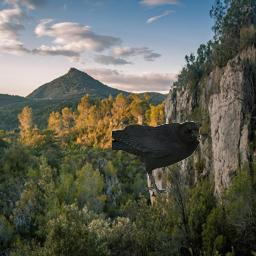Crow: (112, 121, 201, 195)
